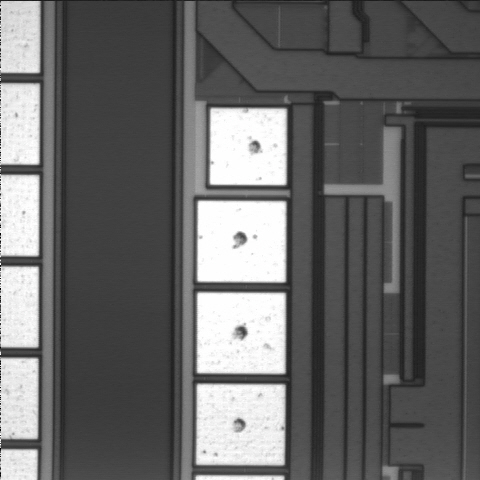pad: (197, 292, 286, 374), (197, 201, 286, 282), (196, 384, 285, 465), (210, 108, 287, 185)
